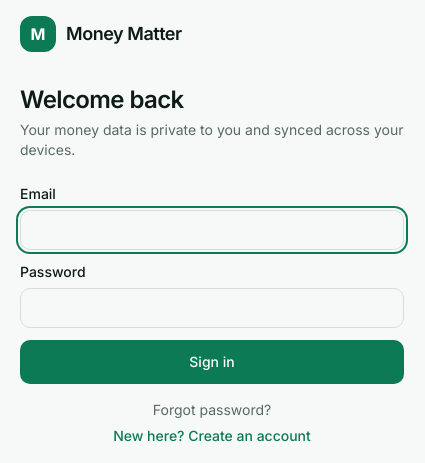
Test: signing in › asks new sign-ups to confirm their email
Click the button "New here? Create an account".
click(212, 436)  # box [113,426,311,446]
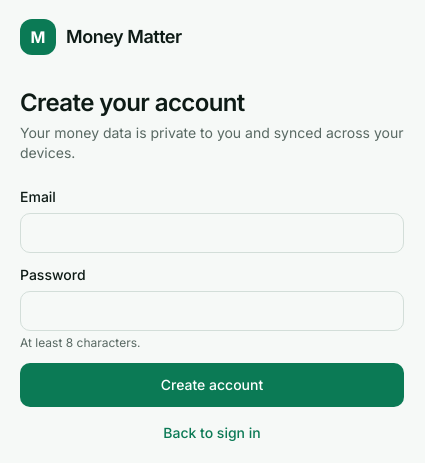
Type "new@example.com" into the field labelled "Email".
click(212, 233); type("new@example.com")  # box [20,213,404,253]
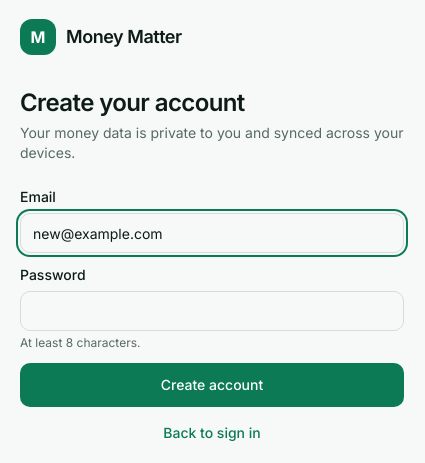
Type "correct-horse" into the password field labelled "Password".
click(212, 311); type("correct-horse")  # box [20,291,404,331]
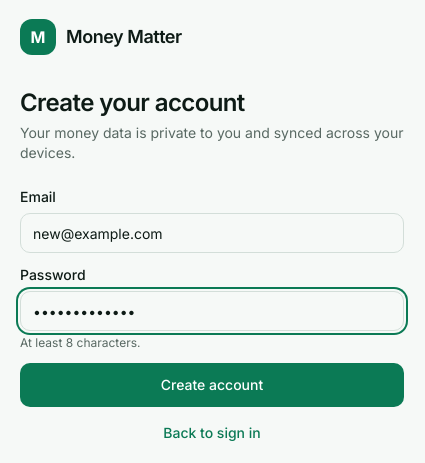
Click the button "Create account".
click(212, 385)  # box [20,363,404,407]
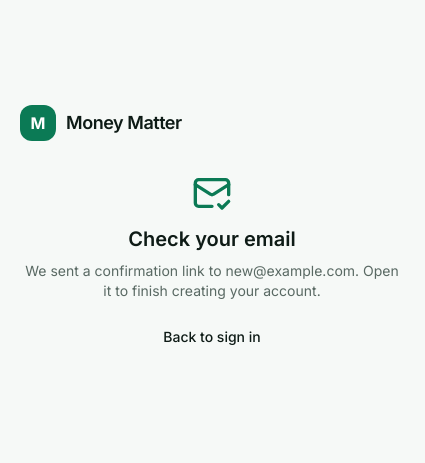
Expected: the heading "Check your email" is shown, [128,227,296,251]
